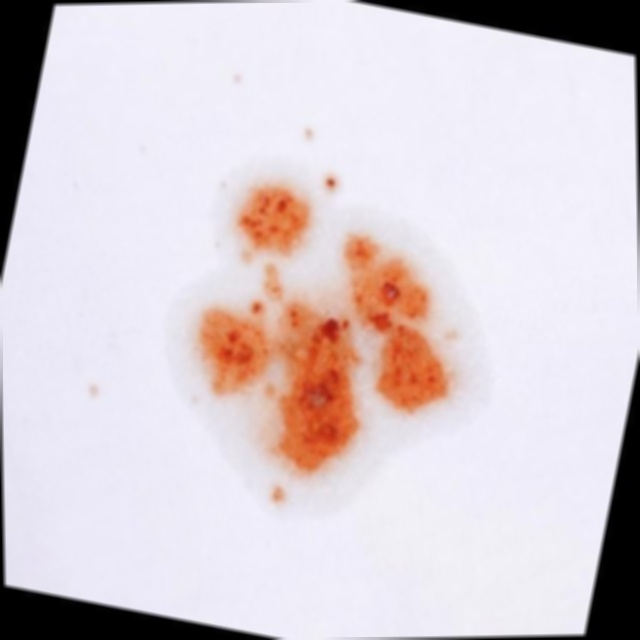kimchi: (160, 160, 494, 508), (80, 370, 111, 408), (303, 114, 322, 143), (228, 65, 246, 89)
